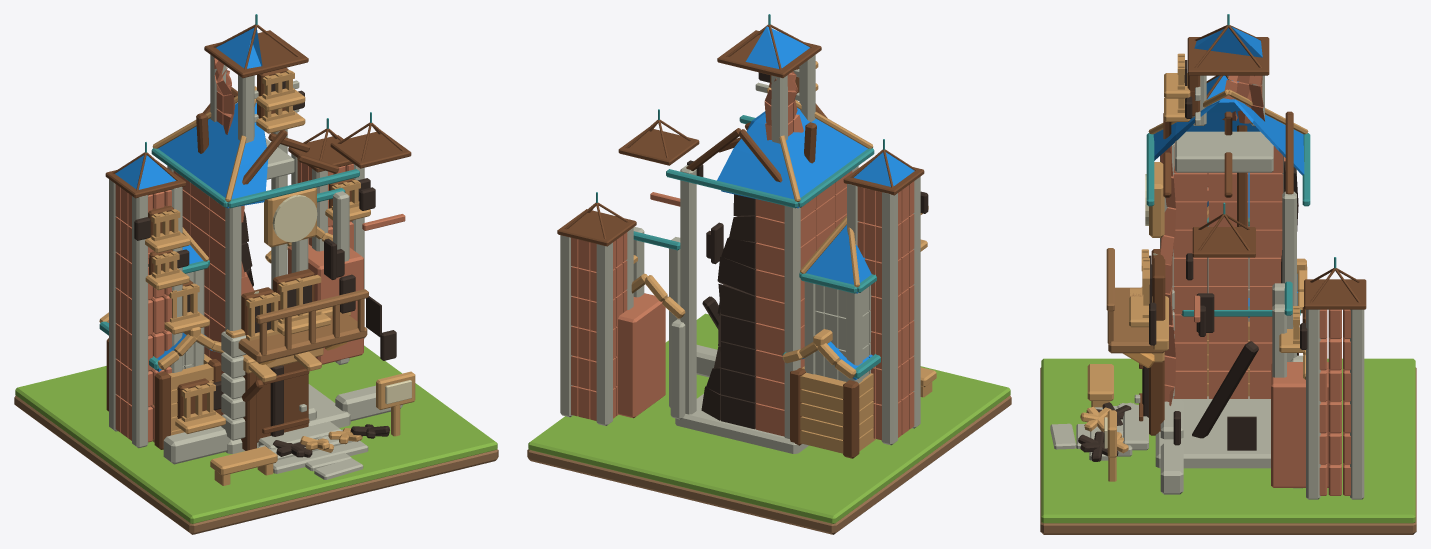
Rendered from town_hall_l12_damaged_LOD0.glb.
The picture shows the model from 3 angles, left to right: view 1: azimuth 30°, elevation 25°; view 2: azimuth 150°, elevation 25°; view 3: azimuth 270°, elevation 25°; orthographic projection. The views are drawn at different scales.
Parts seen in each view (by area): view 1: town_hall_l12_damaged_grass_tile, town_hall_l12_damaged_earth_tile, town_hall_l12_damaged_corner_reinforcement.024, town_hall_l12_damaged_premium_balcony_floor, town_hall_l12_damaged_vertical_corner_connector, town_hall_l12_damaged_hip_roof_shingle.011, town_hall_l12_damaged_corner_reinforcement, town_hall_l12_damaged_door_recess, town_hall_l12_damaged_central_spire_cornice, town_hall_l12_damaged_stone_foundation_course, town_hall_l12_damaged_corner_reinforcement.025, town_hall_l12_damaged_right_spire_cornice (+35 smaller); view 2: town_hall_l12_damaged_grass_tile, town_hall_l12_damaged_earth_tile, town_hall_l12_damaged_vertical_corner_connector, town_hall_l12_damaged_corner_reinforcement.025, town_hall_l12_damaged_corner_reinforcement.003, town_hall_l12_damaged_corner_reinforcement.033, town_hall_l12_damaged_corner_reinforcement.001, town_hall_l12_damaged_hip_roof_shingle.011, town_hall_l12_damaged_hip_roof_shingle.008, town_hall_l12_damaged_foundation, town_hall_l12_damaged_corner_reinforcement.035, town_hall_l12_damaged_corner_reinforcement.024 (+41 smaller); view 3: town_hall_l12_damaged_grass_tile, town_hall_l12_damaged_earth_tile, town_hall_l12_damaged_foundation, town_hall_l12_damaged_vertical_corner_connector, town_hall_l12_damaged_surviving_tower_course, town_hall_l12_damaged_corner_reinforcement.035, town_hall_l12_damaged_corner_reinforcement.034, town_hall_l12_damaged_central_spire_cornice, town_hall_l12_damaged_right_spire_cornice, town_hall_l12_damaged_rear_right_spire_cornice, town_hall_l12_damaged_premium_balcony_floor, town_hall_l12_damaged_collapsed_roof_beam (+54 smaller).
Boxes of the visible parts, x1,y1,x2,y2 form: town_hall_l12_damaged_grass_tile: (15, 345, 497, 523); town_hall_l12_damaged_earth_tile: (14, 395, 498, 534); town_hall_l12_damaged_corner_reinforcement.024: (132, 195, 148, 448); town_hall_l12_damaged_premium_balcony_floor: (238, 313, 367, 363); town_hall_l12_damaged_vertical_corner_connector: (288, 244, 363, 364); town_hall_l12_damaged_hip_roof_shingle.011: (158, 131, 233, 207); town_hall_l12_damaged_corner_reinforcement: (225, 206, 241, 439); town_hall_l12_damaged_door_recess: (257, 361, 308, 442); town_hall_l12_damaged_central_spire_cornice: (204, 30, 308, 78); town_hall_l12_damaged_stone_foundation_course: (163, 426, 230, 464); town_hall_l12_damaged_corner_reinforcement.025: (109, 179, 117, 431); town_hall_l12_damaged_right_spire_cornice: (330, 131, 411, 168); town_hall_l12_damaged_grass_tile: (528, 313, 1010, 523); town_hall_l12_damaged_earth_tile: (527, 395, 1011, 534); town_hall_l12_damaged_vertical_corner_connector: (617, 293, 665, 418); town_hall_l12_damaged_corner_reinforcement.025: (881, 192, 897, 445); town_hall_l12_damaged_corner_reinforcement.003: (680, 165, 696, 414); town_hall_l12_damaged_corner_reinforcement.033: (596, 242, 612, 425); town_hall_l12_damaged_corner_reinforcement.001: (784, 206, 800, 438); town_hall_l12_damaged_hip_roof_shingle.011: (792, 131, 867, 207); town_hall_l12_damaged_hip_roof_shingle.008: (717, 148, 798, 208); town_hall_l12_damaged_foundation: (675, 394, 808, 453); town_hall_l12_damaged_corner_reinforcement.035: (560, 235, 572, 417); town_hall_l12_damaged_corner_reinforcement.024: (912, 176, 920, 428); town_hall_l12_damaged_grass_tile: (1041, 358, 1415, 523); town_hall_l12_damaged_earth_tile: (1040, 367, 1416, 534); town_hall_l12_damaged_foundation: (1155, 396, 1270, 468); town_hall_l12_damaged_vertical_corner_connector: (1271, 362, 1328, 487); town_hall_l12_damaged_surviving_tower_course: (1175, 131, 1273, 172); town_hall_l12_damaged_corner_reinforcement.035: (1350, 309, 1364, 499); town_hall_l12_damaged_corner_reinforcement.034: (1306, 309, 1320, 499); town_hall_l12_damaged_central_spire_cornice: (1187, 37, 1269, 75); town_hall_l12_damaged_right_spire_cornice: (1192, 227, 1255, 257); town_hall_l12_damaged_rear_right_spire_cornice: (1304, 279, 1366, 309); town_hall_l12_damaged_premium_balcony_floor: (1108, 287, 1165, 353); town_hall_l12_damaged_collapsed_roof_beam: (1192, 341, 1258, 438).
Bounding box in the file's own units: 3.6 × 4.67 × 3.6.
